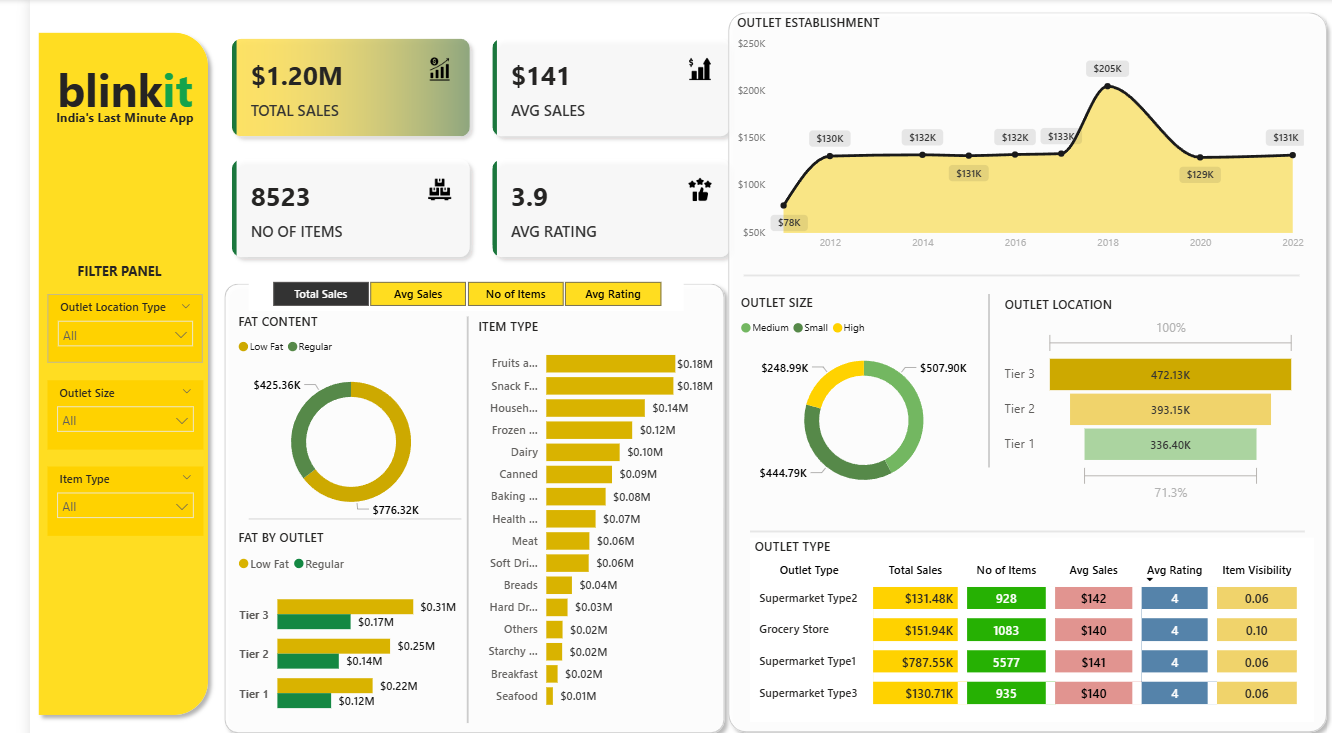

What the dashboard file says about the page in this screenshot:
{"tool":"powerbi","page":{"name":"Page 1","canvas":[1400,800],"ordinal":0},"visuals":[{"type":"shape","box":[0,26.7,200,750],"z":0},{"type":"textbox","box":[18.8,59,166.2,89.8],"z":1000},{"type":"textbox","box":[18.8,112.6,166.2,36.2],"z":2000},{"type":"cardVisual","fields":{"Data":["BlinkIT Grocery Data.Total Sales","BlinkIT Grocery Data.Avg Sales","BlinkIT Grocery Data.No of Items","BlinkIT Grocery Data.Avg Rating"]},"box":[199.7,25.5,569.7,269.4],"z":3000},{"type":"shape","box":[200,296,554,500],"z":4000},{"type":"donutChart","title":"FAT CONTENT","fields":{"Y":["BlinkIT Grocery Data.Total Sales"],"Category":["BlinkIT Grocery Data.Item Fat Content"]},"box":[218,336,252,232],"z":5000},{"type":"slicer","fields":{"Values":["Metrics.Metrics"]},"box":[234,296,466,38],"z":6000},{"type":"clusteredBarChart","title":"FAT BY OUTLET","fields":{"Y":["BlinkIT Grocery Data.Total Sales"],"Category":["BlinkIT Grocery Data.Outlet Location Type"],"Series":["BlinkIT Grocery Data.Item Fat Content"]},"box":[218,568,244,216],"z":7000},{"type":"shape","box":[234,542,228,32],"z":8000},{"type":"shape","box":[446,340,46,436],"z":9000},{"type":"barChart","title":"ITEM TYPE","fields":{"Y":["BlinkIT Grocery Data.Total Sales"],"Category":["BlinkIT Grocery Data.Item Type"]},"box":[476,342,262,430],"z":10000},{"type":"shape","box":[740,6,660,790],"z":11000},{"type":"lineChart","title":"OUTLET ESTABLISHMENT","fields":{"Y":["BlinkIT Grocery Data.Total Sales"],"Category":["BlinkIT Grocery Data.Outlet Establishment Year"]},"box":[754,16,618,262],"z":12000},{"type":"shape","box":[766,278,596,38],"z":13000},{"type":"donutChart","title":"OUTLET SIZE","fields":{"Y":["BlinkIT Grocery Data.Total Sales"],"Category":["BlinkIT Grocery Data.Outlet Size"]},"box":[758,316,274,226],"z":14000},{"type":"shape","box":[1018,316,22,186],"z":15000},{"type":"funnel","title":"OUTLET LOCATION","fields":{"Y":["Sum(BlinkIT Grocery Data.Sales)"],"Category":["BlinkIT Grocery Data.Outlet Location Type"]},"box":[1040,317.5,322.5,227.5],"z":16000},{"type":"shape","box":[772.5,552.5,595,37.5],"z":17000},{"type":"pivotTable","title":"OUTLET TYPE","fields":{"Rows":["BlinkIT Grocery Data.Outlet Type"],"Values":["BlinkIT Grocery Data.Total Sales","BlinkIT Grocery Data.No of Items","BlinkIT Grocery Data.Avg Sales","BlinkIT Grocery Data.Avg Rating","Avg(BlinkIT Grocery Data.Item Visibility)"]},"box":[772.5,577.5,605,197.5],"z":18000},{"type":"slicer","fields":{"Values":["BlinkIT Grocery Data.Outlet Location Type"]},"box":[18.3,316.7,166.7,73.3],"z":19000},{"type":"slicer","fields":{"Values":["BlinkIT Grocery Data.Outlet Size"]},"box":[19,409,167,74],"z":20000},{"type":"slicer","fields":{"Values":["BlinkIT Grocery Data.Item Type"]},"box":[19,502,167,74],"z":20001},{"type":"textbox","box":[4,278,184,36],"z":20002}]}

Visuals, with their boxes on the page's 1400x800 design canvas (x1, y1, x2, y2). These are canvas units, not pixel positions in the 1332x733 screenshot, which may show the page scaled, cropped or inside an application window:
shape: 0/27/200/777
textbox: 19/59/185/149
textbox: 19/113/185/149
cardVisual - BlinkIT Grocery Data.Total Sales x BlinkIT Grocery Data.Avg Sales: 200/26/769/295
shape: 200/296/754/796
"FAT CONTENT" donutChart: 218/336/470/568
slicer - Metrics.Metrics: 234/296/700/334
"FAT BY OUTLET" clusteredBarChart: 218/568/462/784
shape: 234/542/462/574
shape: 446/340/492/776
"ITEM TYPE" barChart: 476/342/738/772
shape: 740/6/1400/796
"OUTLET ESTABLISHMENT" lineChart: 754/16/1372/278
shape: 766/278/1362/316
"OUTLET SIZE" donutChart: 758/316/1032/542
shape: 1018/316/1040/502
"OUTLET LOCATION" funnel: 1040/318/1362/545
shape: 772/552/1368/590
"OUTLET TYPE" pivotTable: 772/578/1378/775
slicer - BlinkIT Grocery Data.Outlet Location Type: 18/317/185/390
slicer - BlinkIT Grocery Data.Outlet Size: 19/409/186/483
slicer - BlinkIT Grocery Data.Item Type: 19/502/186/576
textbox: 4/278/188/314
